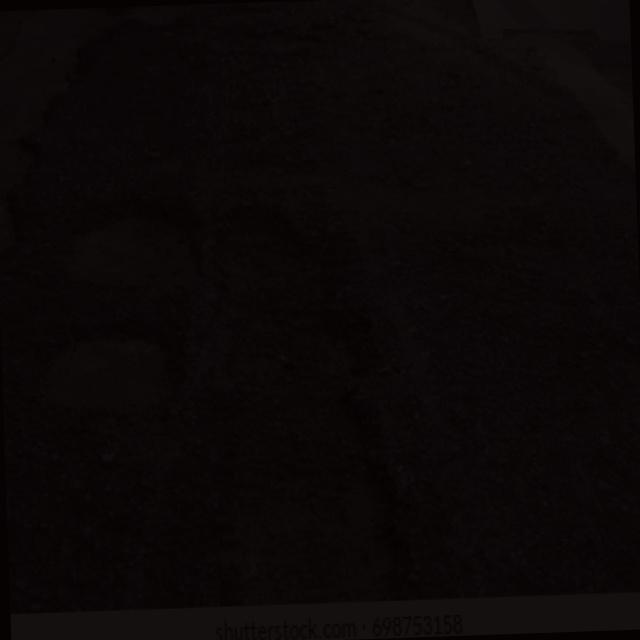Pothole: (286, 302, 416, 602), (34, 316, 191, 422), (47, 203, 207, 301), (219, 198, 353, 302)
